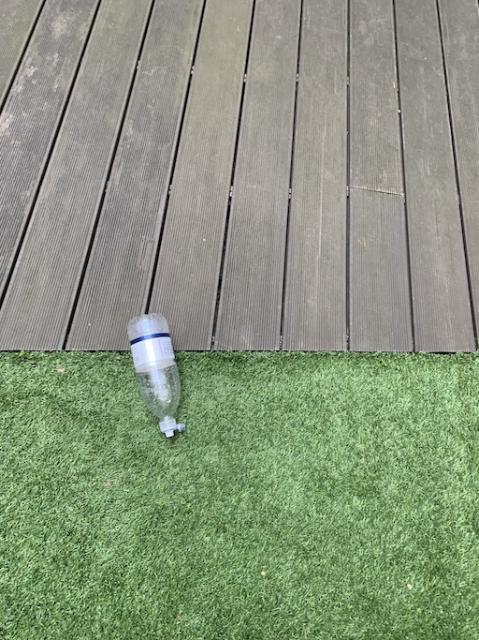plastic: (127, 312, 184, 436)
